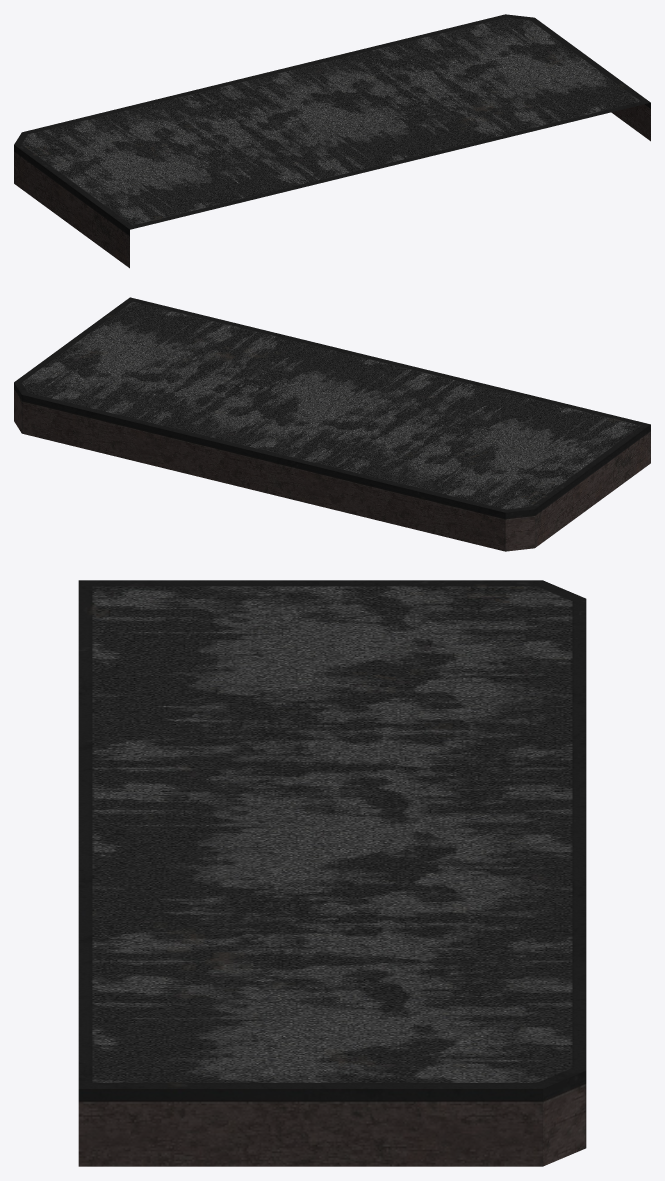
Rendered from Stage.FBX.
3 renders of one model, top to bottom at view 1: azimuth 30°, elevation 25°; view 2: azimuth 150°, elevation 25°; view 3: azimuth 270°, elevation 25°, orthographic. The views are drawn at different scales.
Visible parts, largest first — view 1: Stage; view 2: Stage; view 3: Stage.
Boxes of the visible parts, x1=… form: Stage: x1=14, y1=14, x2=650, y2=268; Stage: x1=14, y1=297, x2=650, y2=551; Stage: x1=78, y1=580, x2=586, y2=1166.
Size of the model in its own units: 836 by 59.63 by 353.
